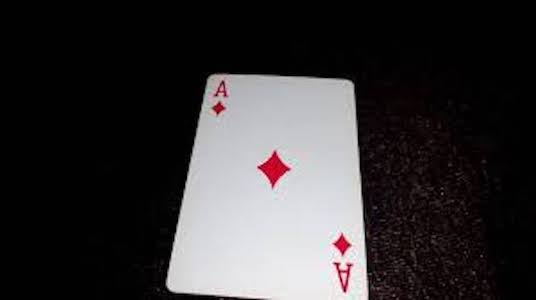AceOfDiamonds: (161, 71, 377, 299)
